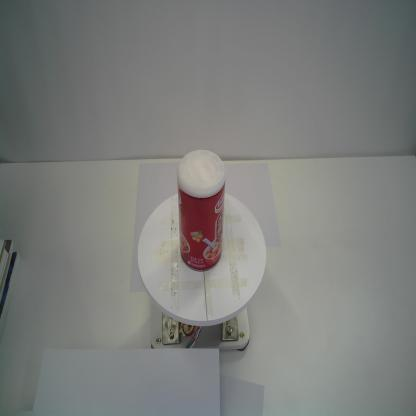Canned Food: (176, 149, 227, 273)
